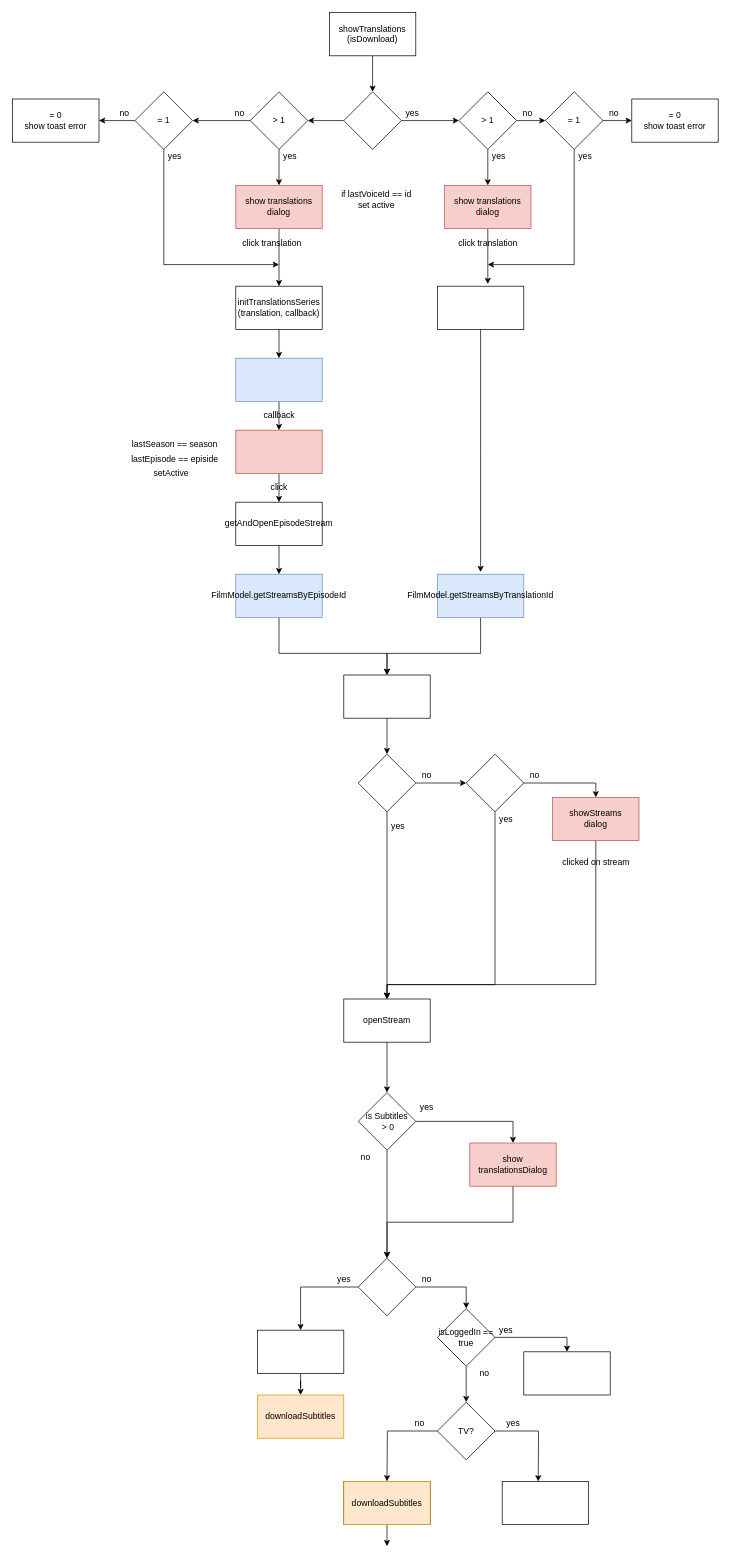
Some shapes in this 731 by 1565 pixel diagram are drawn without their labels. The shapes that lost their labels are listed below. From the top down, each one's box as (x1, y1, x2, y2) in pixels, then its label:
(343, 91, 401, 149): isMovie
(437, 285, 524, 329): getAndOpenFilmStream
(235, 357, 322, 401): FilmModel.getSeasons
(235, 429, 322, 473): showTranslationsSeries (seasons)
(343, 674, 430, 718): initStreams
(357, 753, 416, 812): isMaxQuality?
(465, 753, 524, 812): isDefalutQuality?
(357, 1257, 416, 1316): isDownload
(257, 1329, 344, 1373): startDownloading film in Manager
(523, 1351, 610, 1395): updateWatchLater
(501, 1481, 589, 1525): startPlayerIntent
